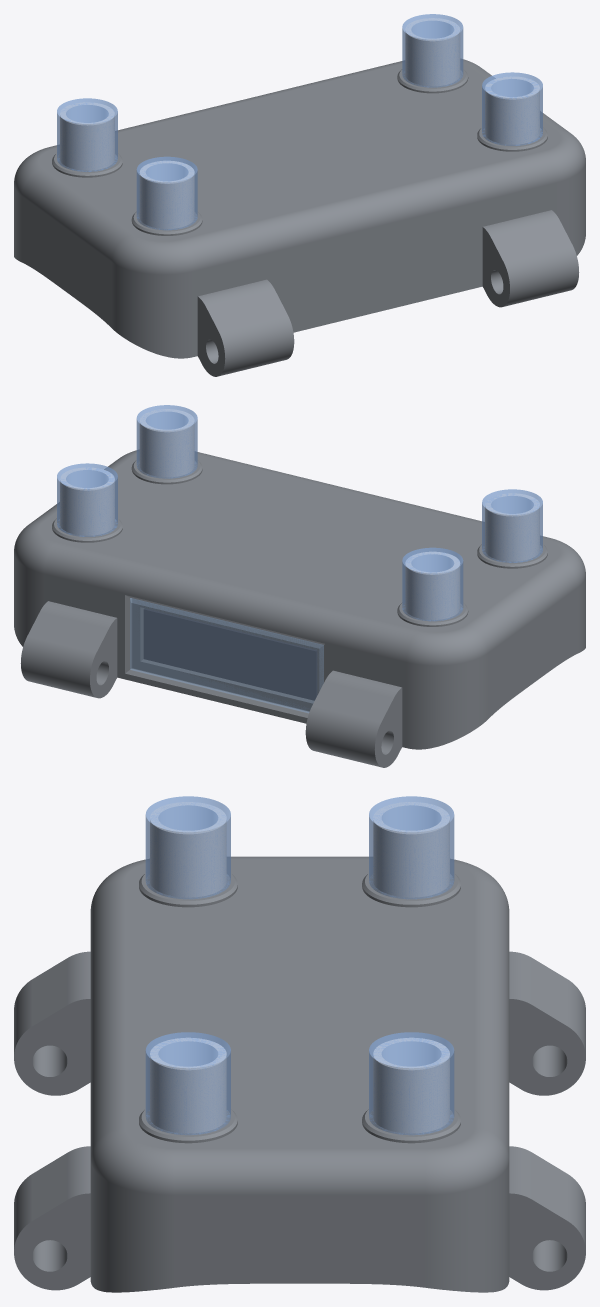
Rendered from assembly.glb.
3 renders of one model, top to bottom at view 1: azimuth 30°, elevation 25°; view 2: azimuth 150°, elevation 25°; view 3: azimuth 270°, elevation 25°, orthographic. The views are drawn at different scales.
Visible parts, largest first — view 1: housing, pzt_window_0, pzt_window_3, pzt_window_2, pzt_window_1, pzt_ceramic_0, pzt_ceramic_3, pzt_ceramic_2, pzt_ceramic_1; view 2: housing, sight_window, oled, pzt_window_1, pzt_window_2, pzt_window_3, pzt_window_0, pzt_ceramic_1, pzt_ceramic_2, pzt_ceramic_3, pzt_ceramic_0; view 3: housing, pzt_window_2, pzt_window_3, pzt_window_0, pzt_window_1, pzt_ceramic_3, pzt_ceramic_0, pzt_ceramic_2, pzt_ceramic_1.
Part boxes in pixels (x1,y1,x2,y2): housing: (14, 59, 585, 376); pzt_window_0: (402, 14, 463, 87); pzt_window_3: (136, 156, 197, 230); pzt_window_2: (57, 98, 117, 171); pzt_window_1: (482, 72, 542, 145); pzt_ceramic_0: (405, 18, 460, 86); pzt_ceramic_3: (139, 161, 194, 228); pzt_ceramic_2: (60, 102, 114, 170); pzt_ceramic_1: (485, 76, 539, 144); housing: (14, 450, 585, 767); sight_window: (130, 598, 323, 713); oled: (144, 608, 316, 700); pzt_window_1: (136, 405, 197, 478); pzt_window_2: (402, 547, 463, 621); pzt_window_3: (482, 489, 542, 562); pzt_window_0: (57, 463, 117, 536); pzt_ceramic_1: (139, 409, 194, 477); pzt_ceramic_2: (405, 551, 460, 619); pzt_ceramic_3: (485, 493, 539, 561); pzt_ceramic_0: (60, 467, 114, 535); housing: (14, 856, 585, 1292); pzt_window_2: (369, 796, 454, 899); pzt_window_3: (145, 796, 230, 899); pzt_window_0: (369, 1032, 454, 1135); pzt_window_1: (145, 1032, 230, 1135); pzt_ceramic_3: (150, 802, 226, 897); pzt_ceramic_0: (373, 1037, 449, 1133); pzt_ceramic_2: (373, 802, 449, 897); pzt_ceramic_1: (150, 1037, 226, 1133).
Bounding box in the file's own units: 0.108 × 0.0375 × 0.082.
